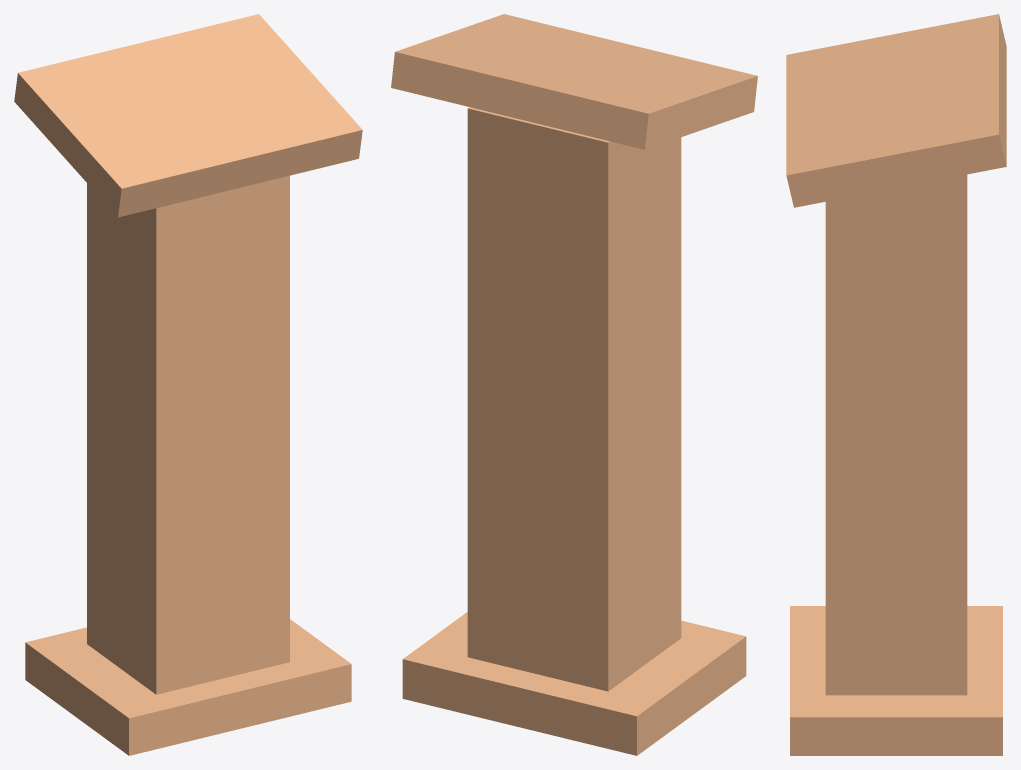
The picture shows the model from 3 angles, left to right: view 1: azimuth 30°, elevation 25°; view 2: azimuth 150°, elevation 25°; view 3: azimuth 270°, elevation 25°; orthographic projection. The views are drawn at different scales.
Visible parts, largest first — view 1: Body, Reading top, Foot; view 2: Body, Reading top, Foot; view 3: Body, Reading top, Foot.
Boxes of the visible parts, bbox=[...] form: Body: bbox=[87, 175, 289, 694]; Reading top: bbox=[14, 14, 362, 217]; Foot: bbox=[25, 619, 351, 755]; Body: bbox=[467, 107, 681, 691]; Reading top: bbox=[391, 14, 757, 149]; Foot: bbox=[402, 612, 746, 755]; Body: bbox=[825, 174, 967, 695]; Reading top: bbox=[786, 14, 1006, 207]; Foot: bbox=[790, 606, 1002, 755].
Size of the model in its own units: 0.4225 by 1.02 by 0.3262.
1 material, 1 textured.
